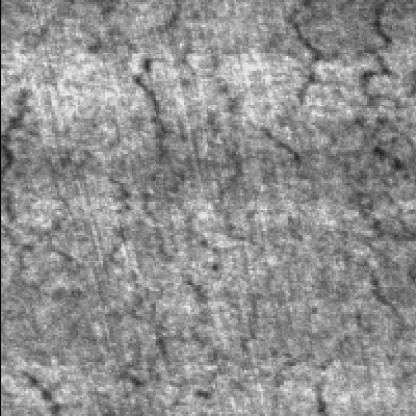crazing: (112, 0, 324, 262), (92, 36, 220, 376), (283, 0, 405, 304), (341, 110, 416, 366)
